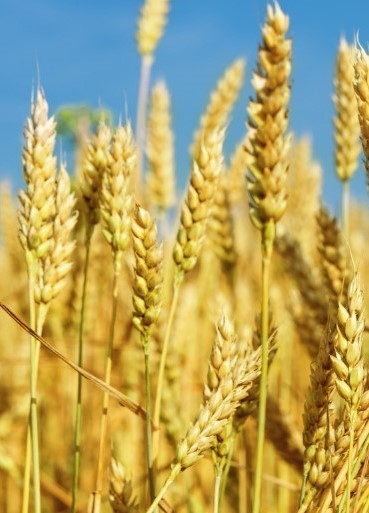Healthy Wheat: (174, 123, 235, 279), (9, 72, 57, 268), (127, 205, 173, 345)
